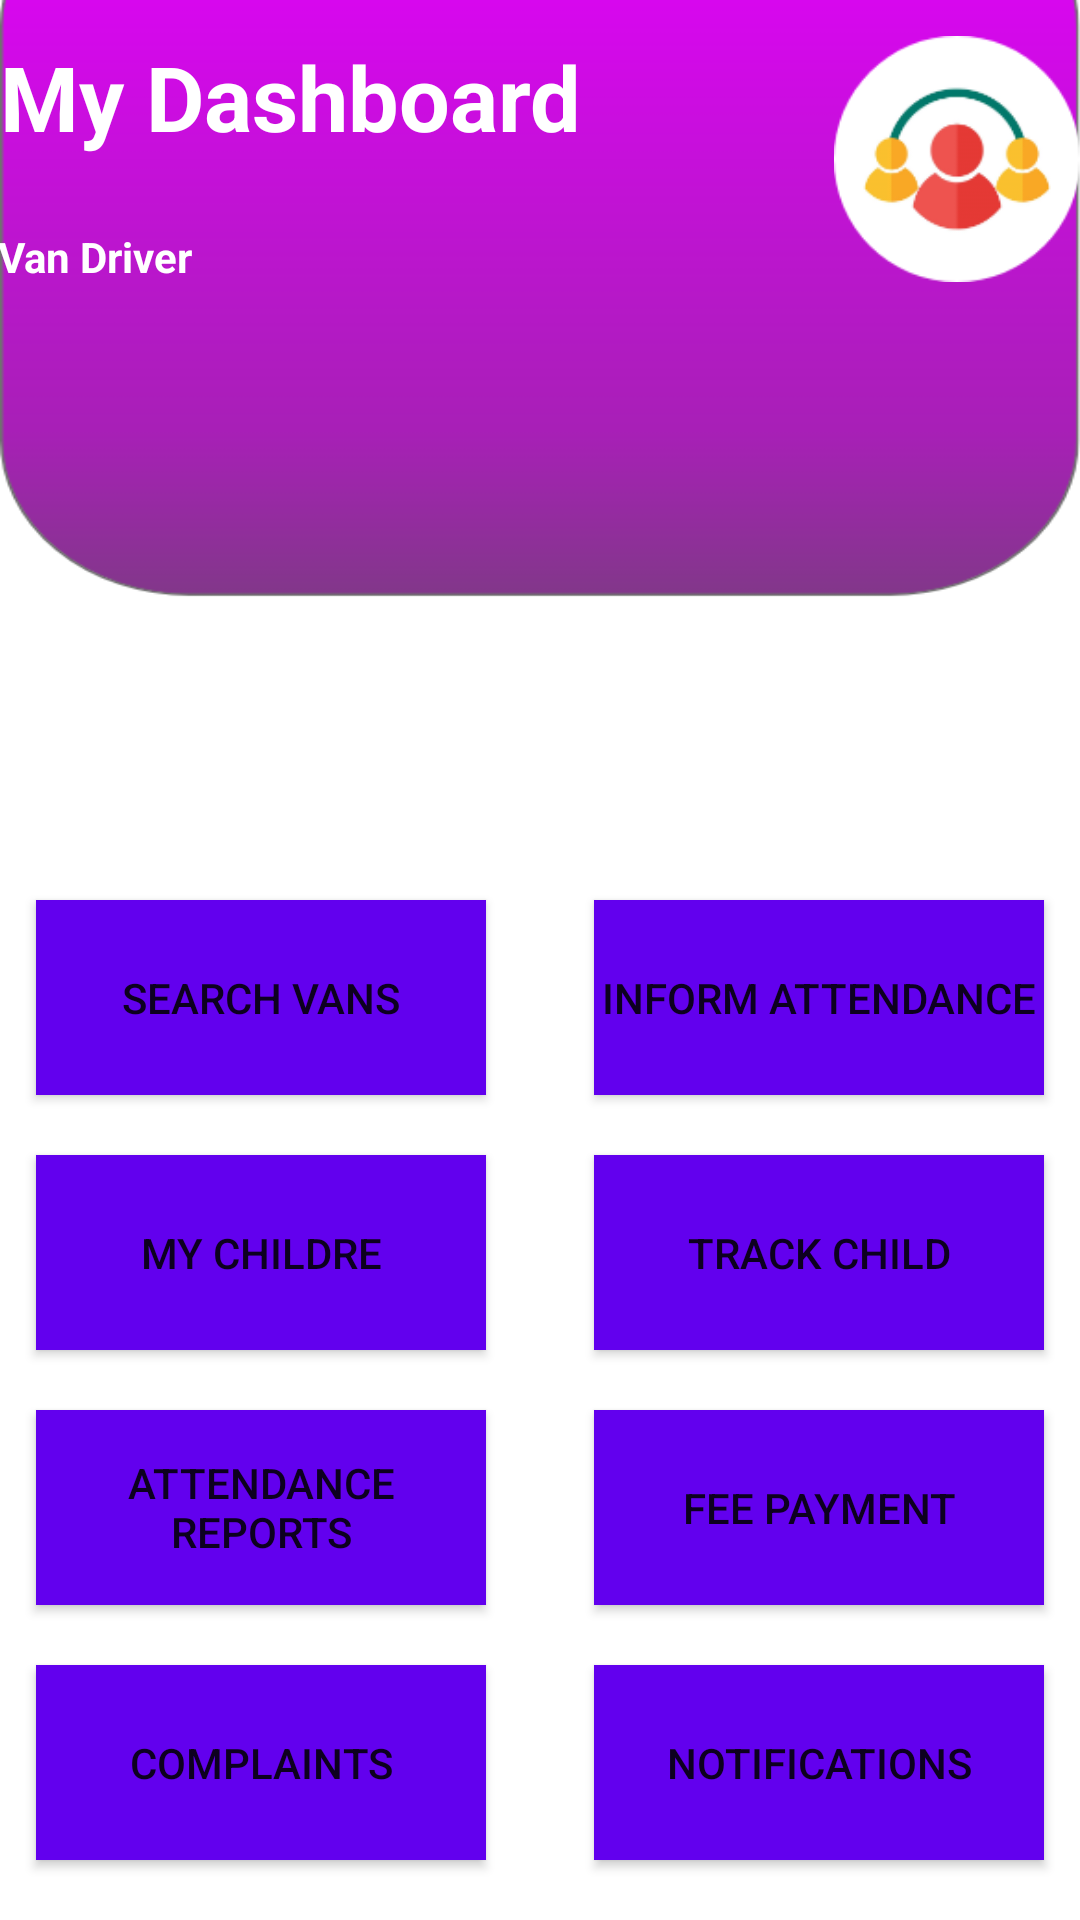

Named icons in this screenshot (1080px×1920px) and their centers, point (x, y):
users iconbunny: point (957, 159)
